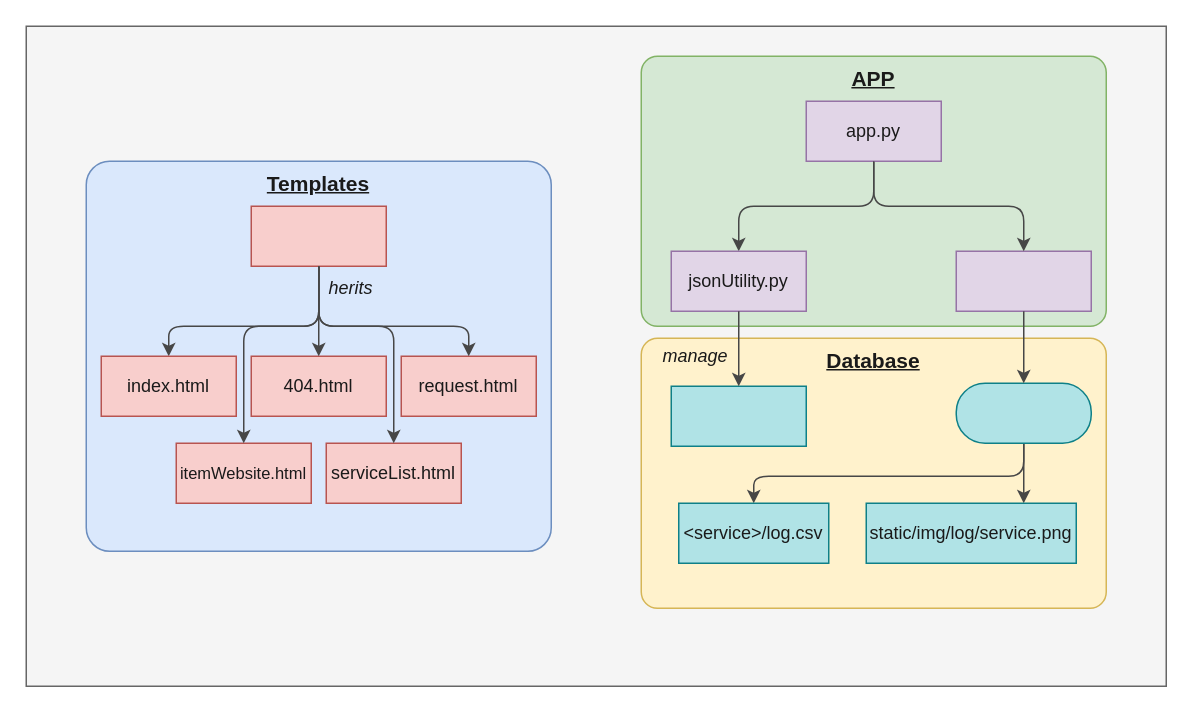
Image size: 1193x713. Some labels were removed from this diagram. The centre of each missing label's shape, as x and y in pixels:
"base.html" goes at [318,235].
"data" goes at [1023,412].
"dataReport.py" goes at [1023,280].
"services.json" goes at [738,415].
